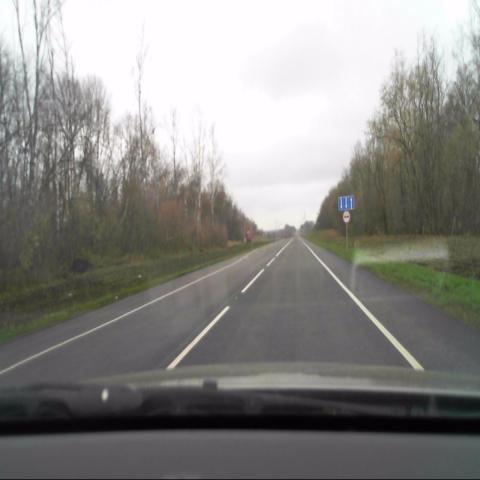3_20: (343, 211, 350, 223)
5_15_7: (339, 195, 354, 211)
